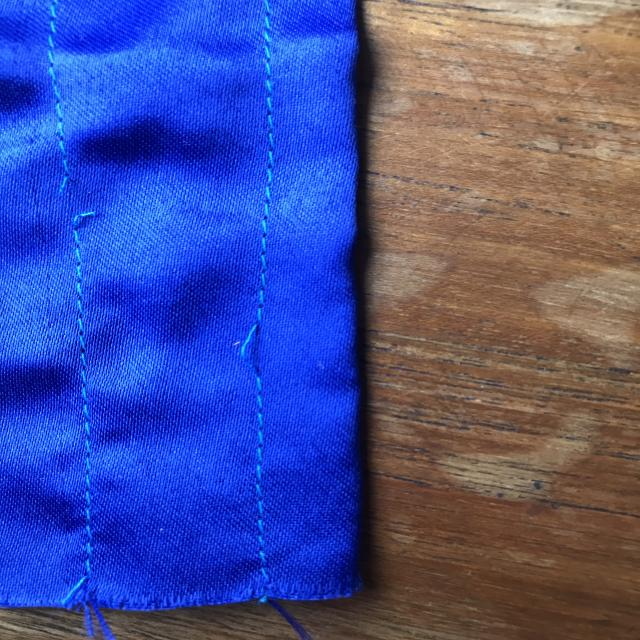broken: (31, 151, 116, 254)
good: (248, 71, 293, 192)
skip: (225, 301, 298, 397)
